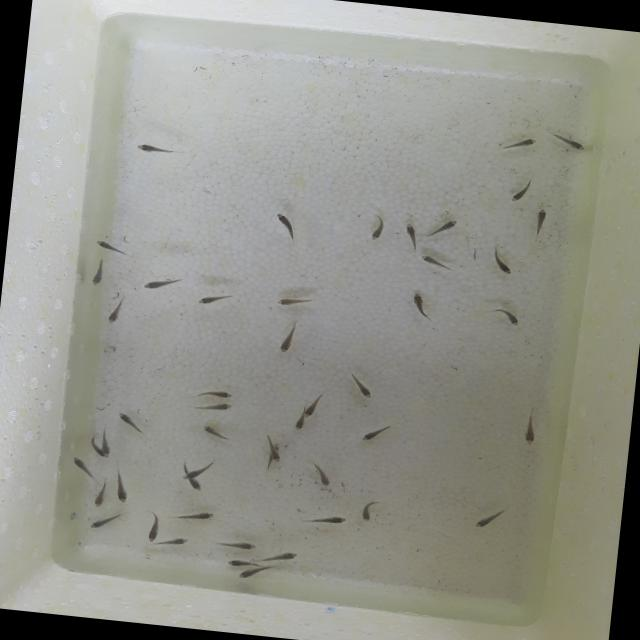fingerling: (514, 404, 544, 448), (112, 410, 152, 440), (195, 421, 243, 446), (494, 132, 543, 156), (138, 271, 184, 296), (485, 242, 516, 278), (342, 368, 376, 400), (297, 510, 349, 530), (358, 419, 397, 445), (92, 238, 139, 258), (470, 506, 506, 532), (507, 173, 535, 206), (85, 258, 114, 288), (132, 140, 180, 158), (418, 252, 457, 274), (408, 290, 436, 320), (262, 432, 286, 466), (430, 214, 463, 238), (86, 510, 122, 532), (488, 304, 522, 327), (188, 399, 234, 416), (170, 507, 218, 523), (90, 476, 114, 508), (143, 508, 164, 544), (276, 324, 300, 355), (228, 558, 274, 574), (214, 537, 260, 553), (160, 531, 195, 552), (400, 220, 422, 253), (550, 133, 588, 152), (104, 296, 128, 326), (530, 206, 550, 242), (178, 461, 212, 482), (306, 464, 334, 489), (196, 384, 233, 402), (263, 548, 300, 566), (96, 428, 116, 460), (367, 212, 388, 242), (70, 456, 96, 480), (274, 294, 312, 310), (272, 210, 296, 234), (303, 392, 325, 418), (195, 292, 230, 308), (230, 566, 270, 580), (114, 480, 132, 506), (357, 501, 374, 524), (292, 414, 309, 436), (188, 481, 206, 494)
